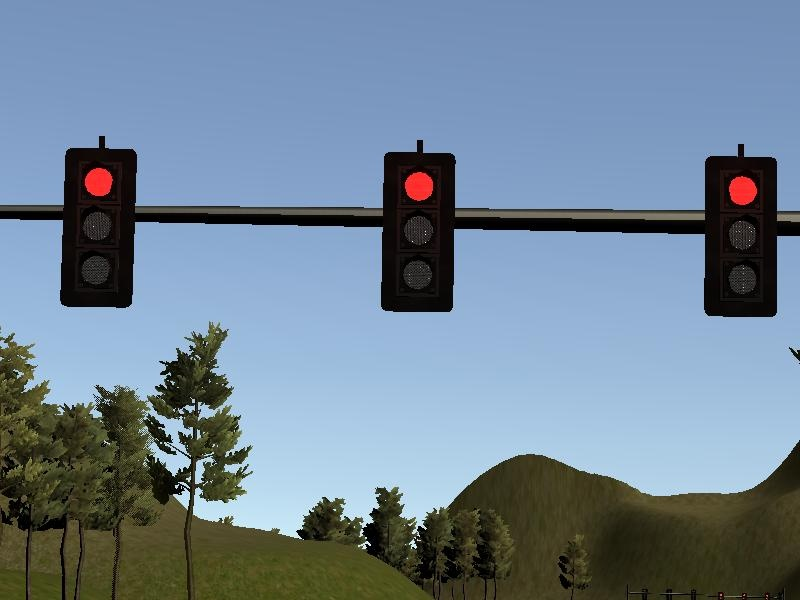RED: (702, 156, 780, 320), (379, 150, 457, 314), (60, 146, 138, 310)
